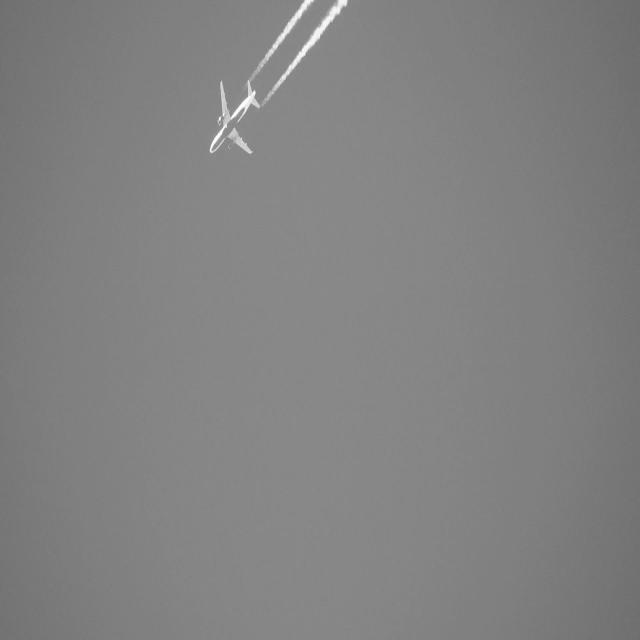aeroplane: (205, 67, 258, 168)
